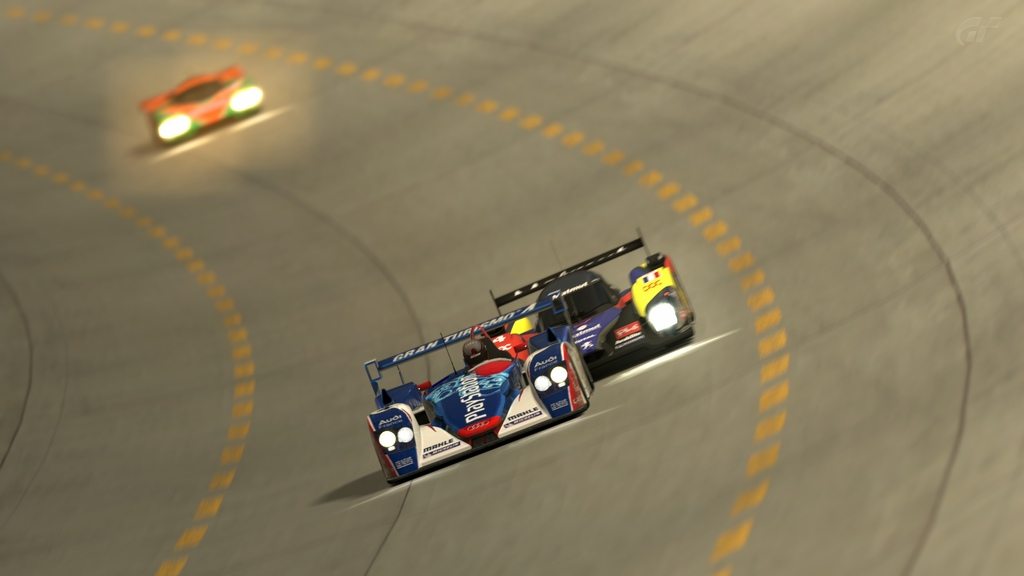Car: (367, 288, 595, 485), (487, 221, 687, 380), (132, 58, 267, 156)
